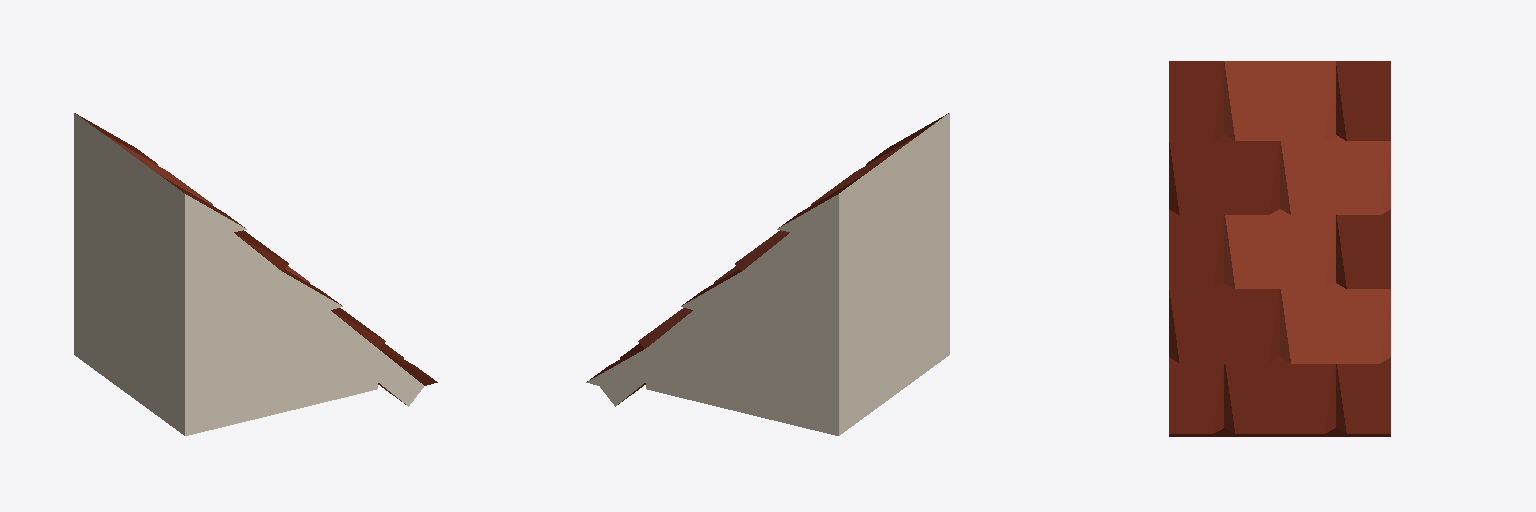
The model's file is Roof_Straight_Side_Eave.obj.
3 views of the same model, side by side, from view 1: azimuth 30°, elevation 25°; view 2: azimuth 150°, elevation 25°; view 3: azimuth 270°, elevation 25° (orthographic).
Visible parts, largest first — view 1: object1; view 2: object1; view 3: object1.
Boxes of the visible parts, x1=… form: object1: x1=74, y1=113, x2=437, y2=435; object1: x1=586, y1=113, x2=949, y2=435; object1: x1=1169, y1=61, x2=1390, y2=436.
Bounding box in the file's own units: 1.31 × 1.32 × 1.